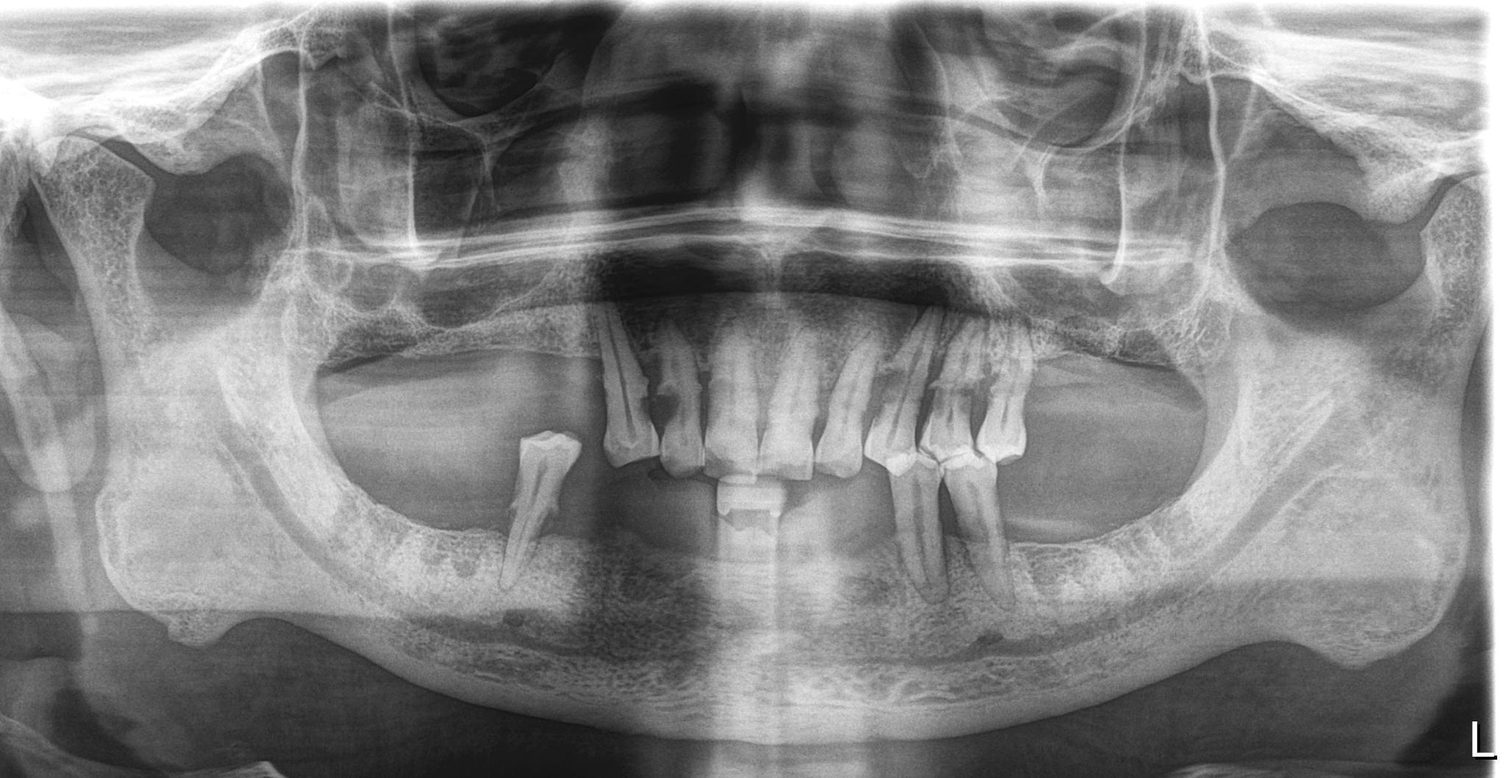Dental Caries: (949, 373, 996, 434), (634, 391, 692, 436), (857, 375, 905, 426)
Missing Tooth: (311, 448, 504, 553), (555, 498, 713, 584), (1114, 323, 1183, 446), (390, 307, 457, 427), (1061, 325, 1120, 456), (318, 312, 377, 427), (520, 307, 582, 409), (472, 309, 517, 412), (1035, 343, 1074, 459), (1018, 483, 1057, 589), (1143, 461, 1180, 571), (1110, 478, 1141, 590), (1070, 479, 1099, 590)
